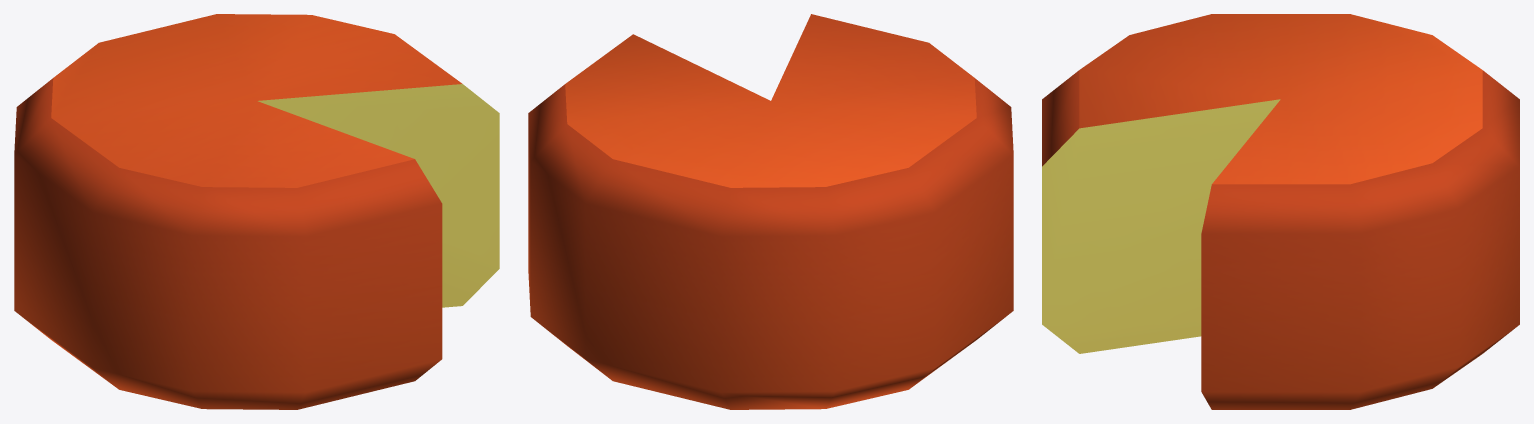
Rendered from cheese_wheel_red.fbx.
3 views of the same model, side by side, from view 1: azimuth 30°, elevation 25°; view 2: azimuth 150°, elevation 25°; view 3: azimuth 270°, elevation 25° (orthographic).
Visible parts, largest first — view 1: cheese_wheel_red; view 2: cheese_wheel_red; view 3: cheese_wheel_red.
Boxes of the visible parts, bbox=[...] form: cheese_wheel_red: bbox=[14, 14, 499, 409]; cheese_wheel_red: bbox=[528, 14, 1013, 409]; cheese_wheel_red: bbox=[1042, 14, 1519, 409].
Bounding box in the file's own units: 33.93 × 17.68 × 33.93.
